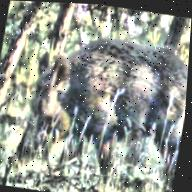boar: (14, 17, 191, 187)
